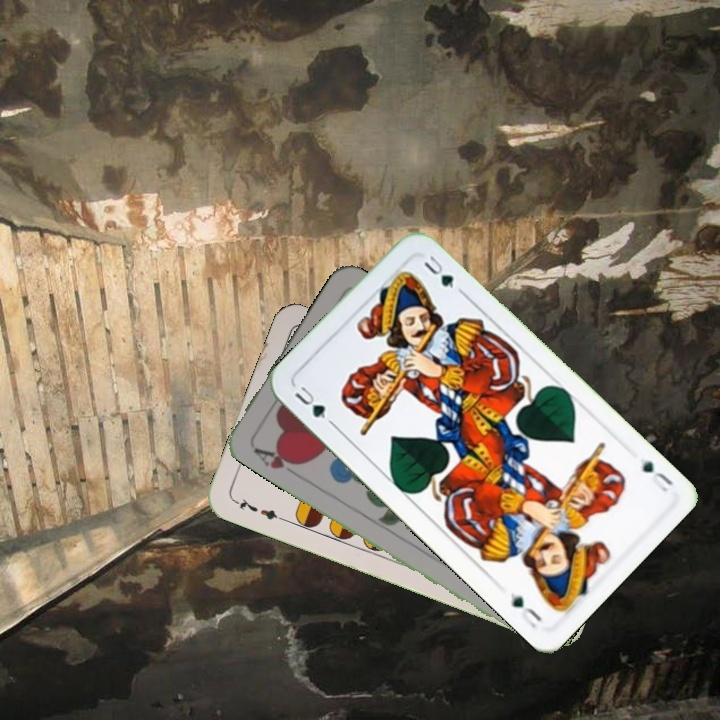E7: (230, 494, 287, 525)
GU: (290, 382, 336, 428), (635, 454, 677, 495)
HA: (249, 443, 305, 479)
